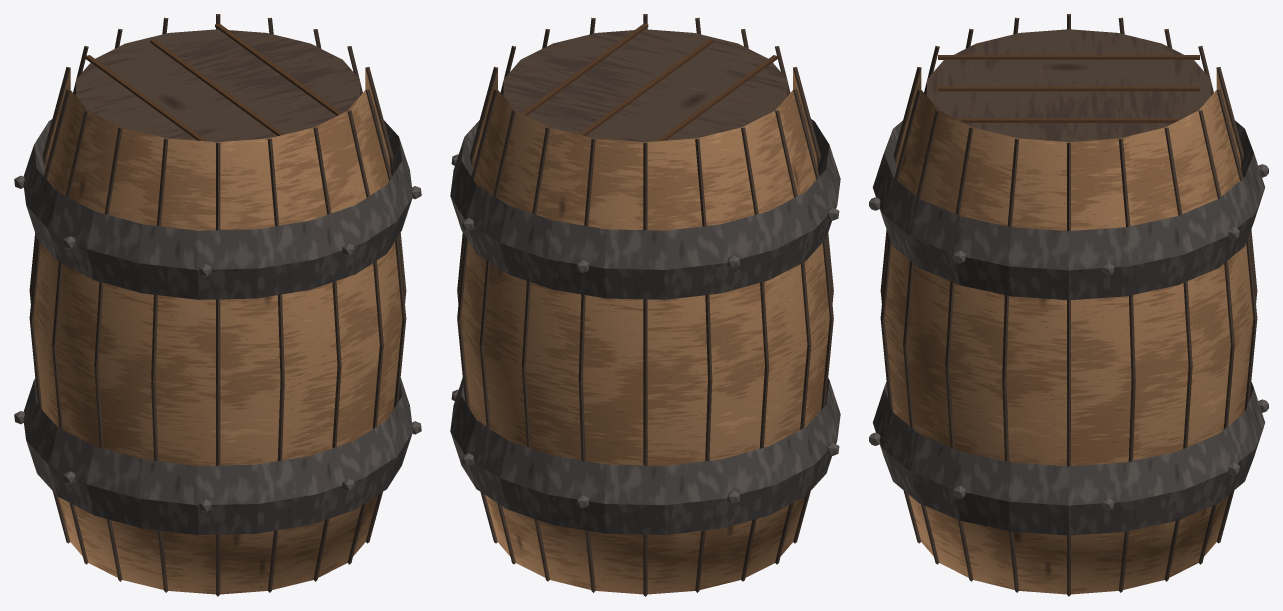
The model's file is wooden_barrel.glb.
The picture shows the model from 3 angles, left to right: view 1: azimuth 30°, elevation 25°; view 2: azimuth 150°, elevation 25°; view 3: azimuth 270°, elevation 25°; orthographic projection.
Parts seen in each view (by area): view 1: wooden_barrel_staves_body, wooden_barrel_hoops, wooden_barrel_lid; view 2: wooden_barrel_staves_body, wooden_barrel_hoops, wooden_barrel_lid; view 3: wooden_barrel_staves_body, wooden_barrel_hoops, wooden_barrel_lid.
Part boxes in pixels (box(x1,y1,x2,y2)): wooden_barrel_staves_body: box(29, 14, 406, 596); wooden_barrel_hoops: box(14, 119, 421, 534); wooden_barrel_lid: box(76, 23, 359, 141); wooden_barrel_staves_body: box(457, 14, 833, 596); wooden_barrel_hoops: box(450, 119, 840, 534); wooden_barrel_lid: box(503, 23, 787, 142); wooden_barrel_staves_body: box(880, 14, 1257, 596); wooden_barrel_hoops: box(869, 120, 1268, 535); wooden_barrel_lid: box(927, 29, 1210, 141).
Size of what is drawn, in the model's own units: 0.6418 by 0.8019 by 0.6408.
Materials: 4 (4 with a texture image).
